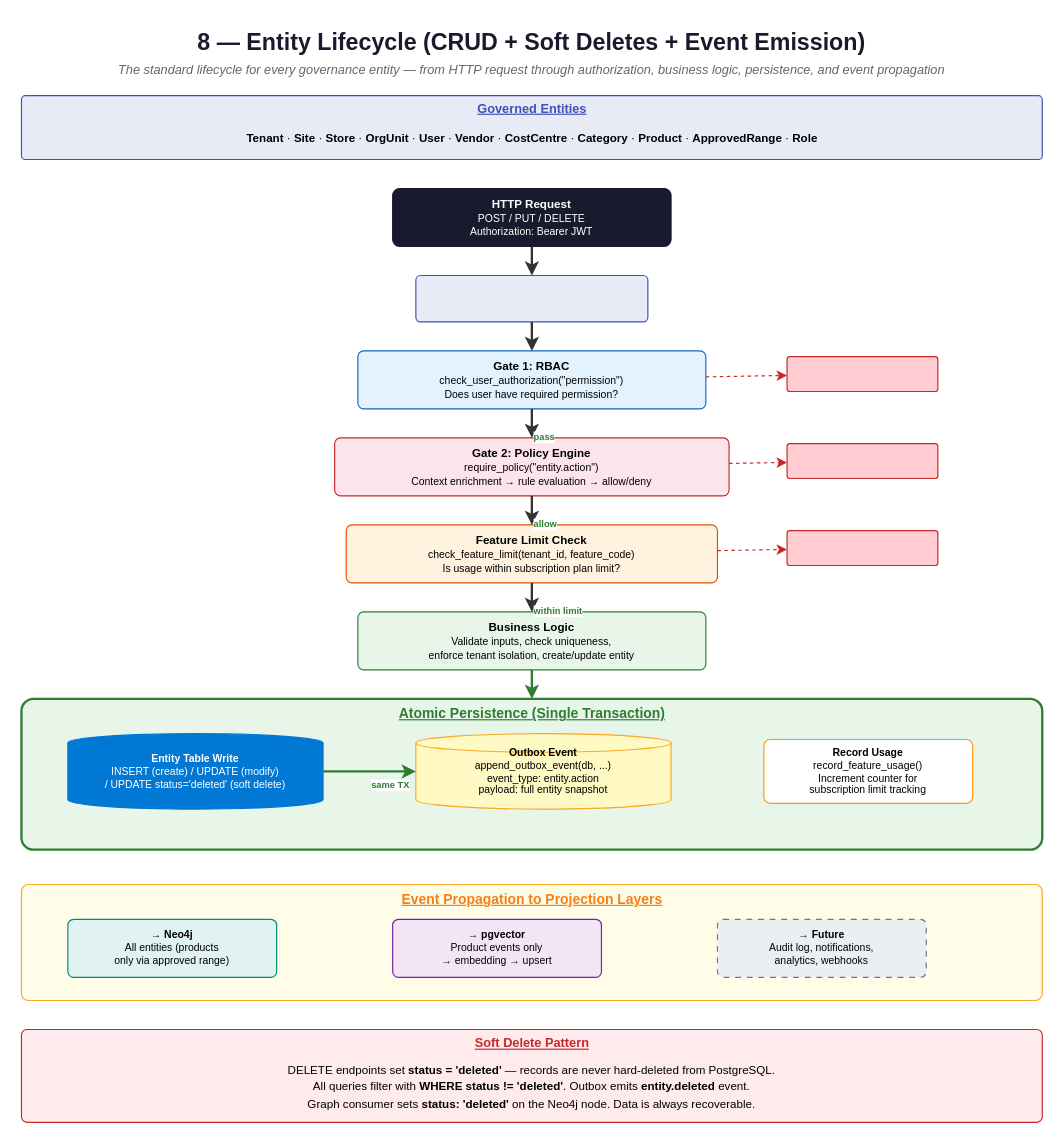
This 1063x1143 diagram has some shape labels left out. Each missing label, with the centre of its shape:
403 No permission: (862,374)
403 Policy denied: (862,460)
429 Limit exceeded: (862,548)
JWT Decode Extract user_id, tenant_id, roles: (531,298)
